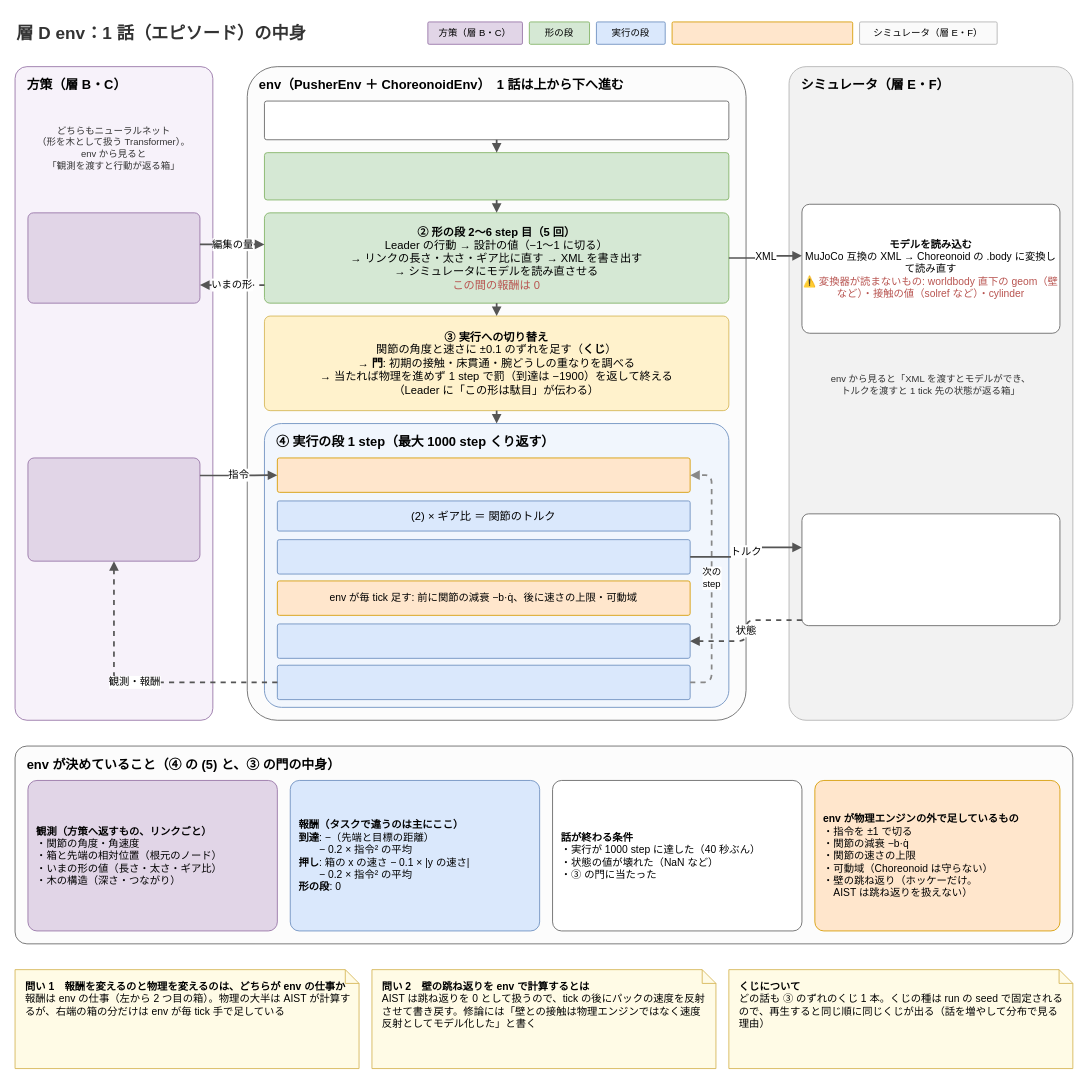
Some shapes in this 1088 by 1084 pixel diagram are drawn without their labels. The shapes that lost their labels are listed below. From the top down, each one's centre as x and y in pixels, then its label:
At (x=762, y=32): "env が物理エンジンの外で足すもの".
At (x=496, y=120): "⓪ reset 形と姿勢を初期値に戻す".
At (x=496, y=176): "① 形の段 1 step 目 骨格を変える段 → 素通り （リンクのつながりはスケッチのまま固定。fix_skeleton）".
At (x=113, y=257): "Leader 形を編集する量を出す （形の段だけ動く）".
At (x=483, y=474): "(1) 指令を ±1 で切る".
At (x=113, y=509): "Follower 関節ごとの指令を出す （実行の段だけ動く） 形の値も観測に入る".
At (x=483, y=556): "(3) 物理を 4 tick 進める（1 tick 0.01 s → 1 step 0.04 s）".
At (x=930, y=569): "Choreonoid ＋ 物理エンジン AIST 1 tick を計算する 当たり判定 → 接触の力 → 運動の積分 （中身は層 F）".
At (x=483, y=640): "(4) 状態を読む（関節の角度・速さ、リンクと箱の位置）".
At (x=483, y=682): "(5) 報酬と終わりの条件を計算し、観測を作って返す".
